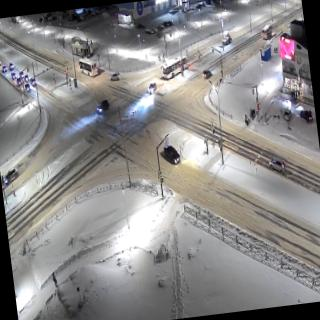large-vehicle: (160, 51, 190, 80), (78, 54, 99, 82), (260, 20, 276, 41)
small-vehicle: (162, 141, 182, 167), (268, 151, 287, 178), (0, 166, 21, 186), (94, 98, 112, 116), (218, 30, 234, 48), (108, 70, 123, 82), (146, 82, 158, 96), (23, 81, 31, 93), (9, 70, 17, 81), (15, 75, 22, 87), (18, 69, 25, 79), (8, 61, 15, 71), (31, 78, 37, 88), (25, 74, 31, 84), (1, 64, 7, 74), (0, 58, 2, 67)
